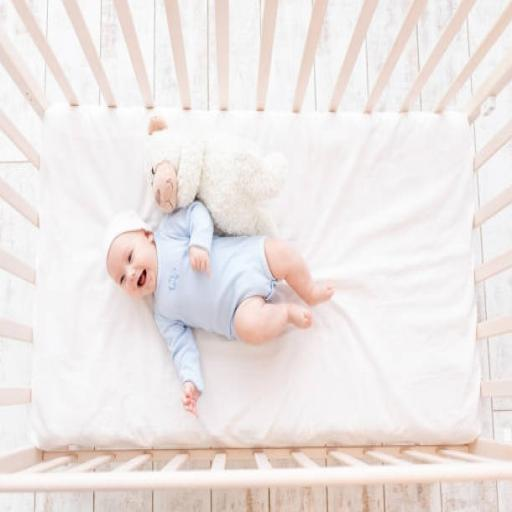baby: (107, 202, 334, 414)
crib: (0, 0, 511, 418)
